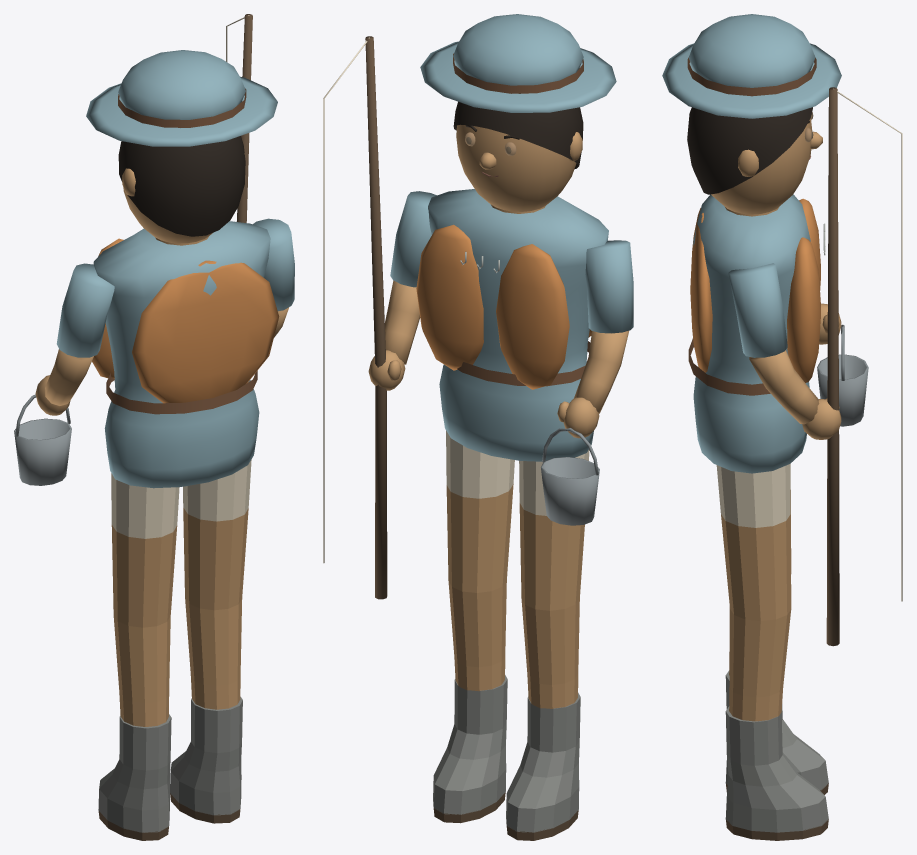
The model's file is SM_NPC_FIN.glb.
3 renders of one model, left to right at view 1: azimuth 30°, elevation 25°; view 2: azimuth 150°, elevation 25°; view 3: azimuth 270°, elevation 25°, orthographic. The views are drawn at different scales.
Visible parts, largest first — view 1: SM_NPC_FIN_BODY, SM_NPC_FIN_HAIR, SM_NPC_FIN_LEG_L, SM_NPC_FIN_LEG_R, SM_NPC_FIN_ARM_L, SM_NPC_FIN_ARM_R, SM_NPC_FIN_HEAD; view 2: SM_NPC_FIN_BODY, SM_NPC_FIN_LEG_R, SM_NPC_FIN_LEG_L, SM_NPC_FIN_HAIR, SM_NPC_FIN_ARM_R, SM_NPC_FIN_ARM_L, SM_NPC_FIN_HEAD; view 3: SM_NPC_FIN_BODY, SM_NPC_FIN_LEG_R, SM_NPC_FIN_HAIR, SM_NPC_FIN_ARM_R, SM_NPC_FIN_HEAD, SM_NPC_FIN_ARM_L, SM_NPC_FIN_LEG_L.
Boxes of the visible parts, <box> form: SM_NPC_FIN_BODY: <box>92,221,279,488</box>; SM_NPC_FIN_HAIR: <box>86,50,277,236</box>; SM_NPC_FIN_LEG_L: <box>98,473,179,840</box>; SM_NPC_FIN_LEG_R: <box>170,459,251,823</box>; SM_NPC_FIN_ARM_L: <box>14,263,114,485</box>; SM_NPC_FIN_ARM_R: <box>226,14,294,337</box>; SM_NPC_FIN_HEAD: <box>122,153,244,243</box>; SM_NPC_FIN_BODY: <box>416,189,608,461</box>; SM_NPC_FIN_LEG_R: <box>433,430,514,823</box>; SM_NPC_FIN_LEG_L: <box>506,450,589,840</box>; SM_NPC_FIN_HAIR: <box>420,14,616,169</box>; SM_NPC_FIN_ARM_R: <box>323,36,436,599</box>; SM_NPC_FIN_ARM_L: <box>541,240,633,525</box>; SM_NPC_FIN_HEAD: <box>456,124,582,211</box>; SM_NPC_FIN_BODY: <box>688,194,825,473</box>; SM_NPC_FIN_LEG_R: <box>716,464,828,840</box>; SM_NPC_FIN_HAIR: <box>662,14,841,194</box>; SM_NPC_FIN_ARM_R: <box>728,87,902,646</box>; SM_NPC_FIN_HEAD: <box>711,118,822,214</box>; SM_NPC_FIN_ARM_L: <box>817,303,868,426</box>; SM_NPC_FIN_LEG_L: <box>725,464,828,794</box>.
Bounding box in the file's own units: 0.6229 × 1.89 × 0.5232.
